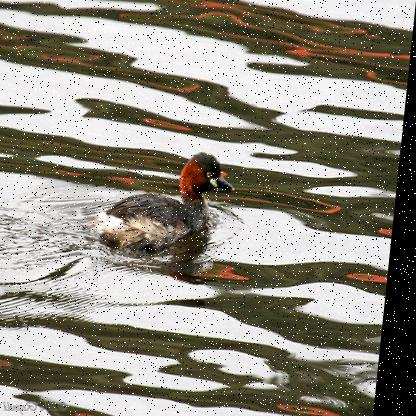Burung: (98, 152, 243, 245)
